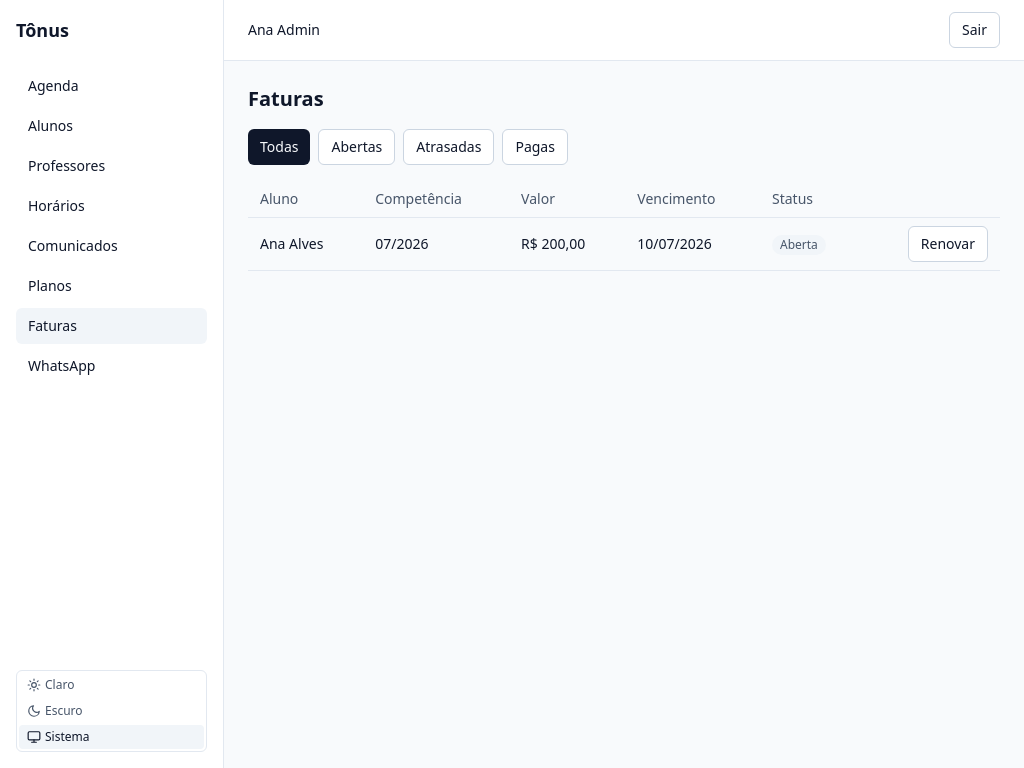
renovar › confirma, envia a data escolhida e a lista volta com a fatura paga
Click the button with aria-label "Renovar a fatura de Ana Alves". click: point(948, 244)
box: [908,226,988,262]
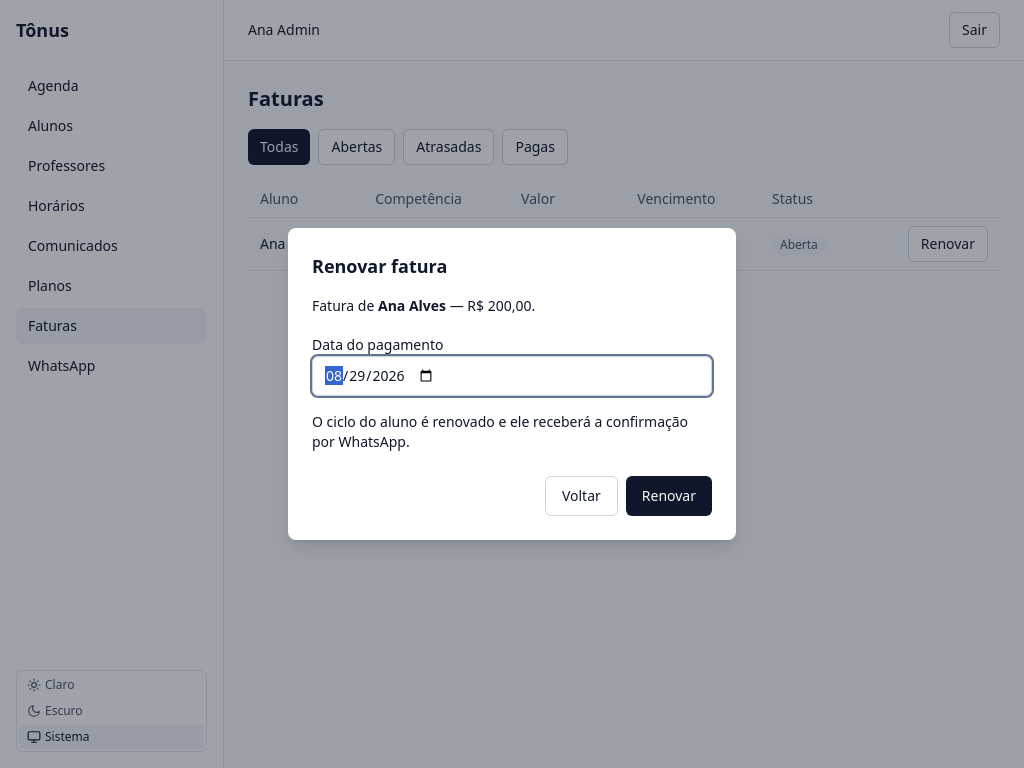
Now the text "ciclo do aluno é renovado" is shown, box [312,412,688,451]
Type "2026-07-20" into the date field labelled "Data do pagamento". click: point(512, 376)
box: [312,356,712,396]
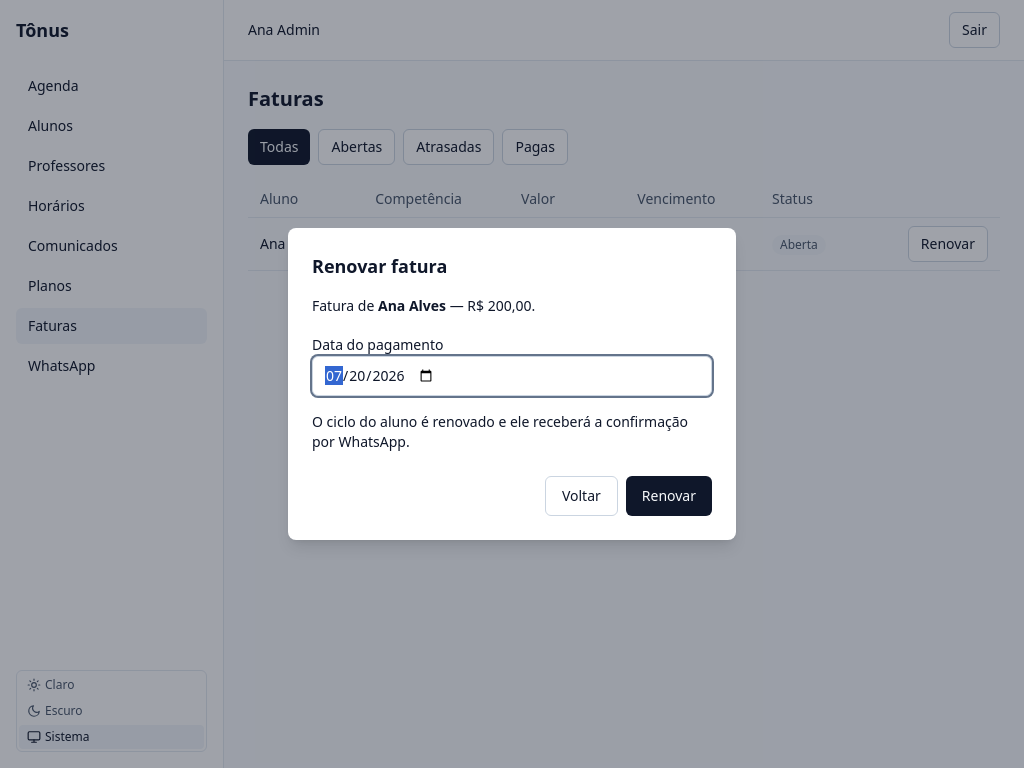
Click the button "Renovar". click: point(669, 496)
box: [626,476,712,516]
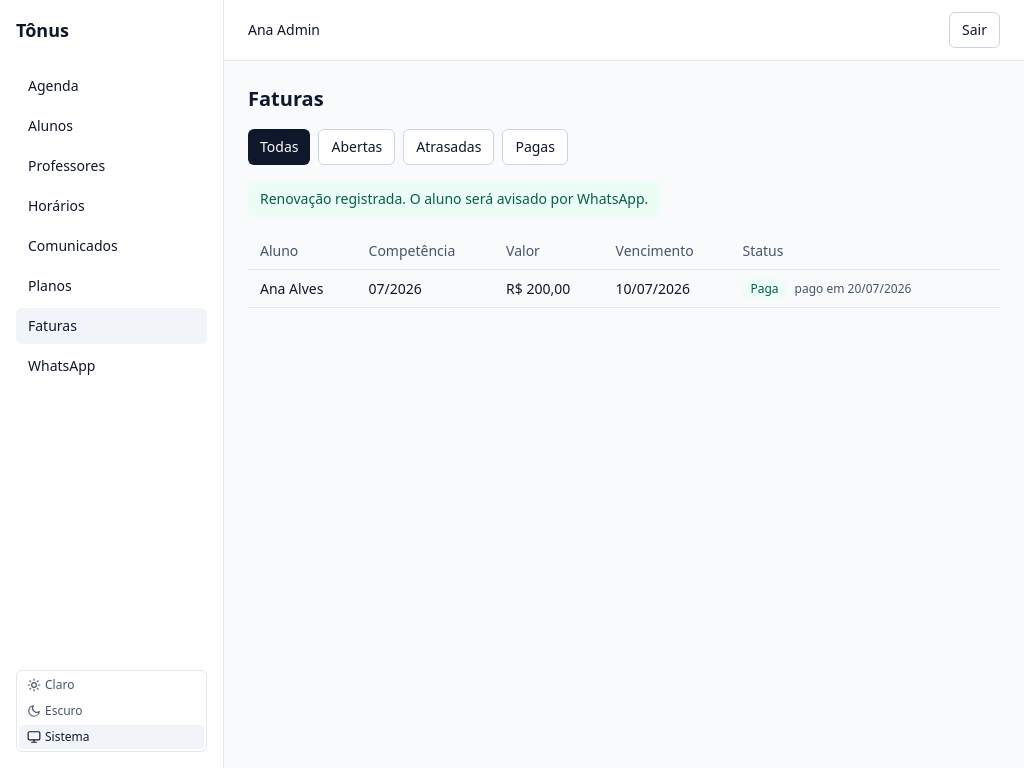
Now the dialog is gone
Now the text "Paga" is shown, box [742,279,787,299]
Now the text "pago em 20/07/2026" is shown, box [795,280,911,297]
